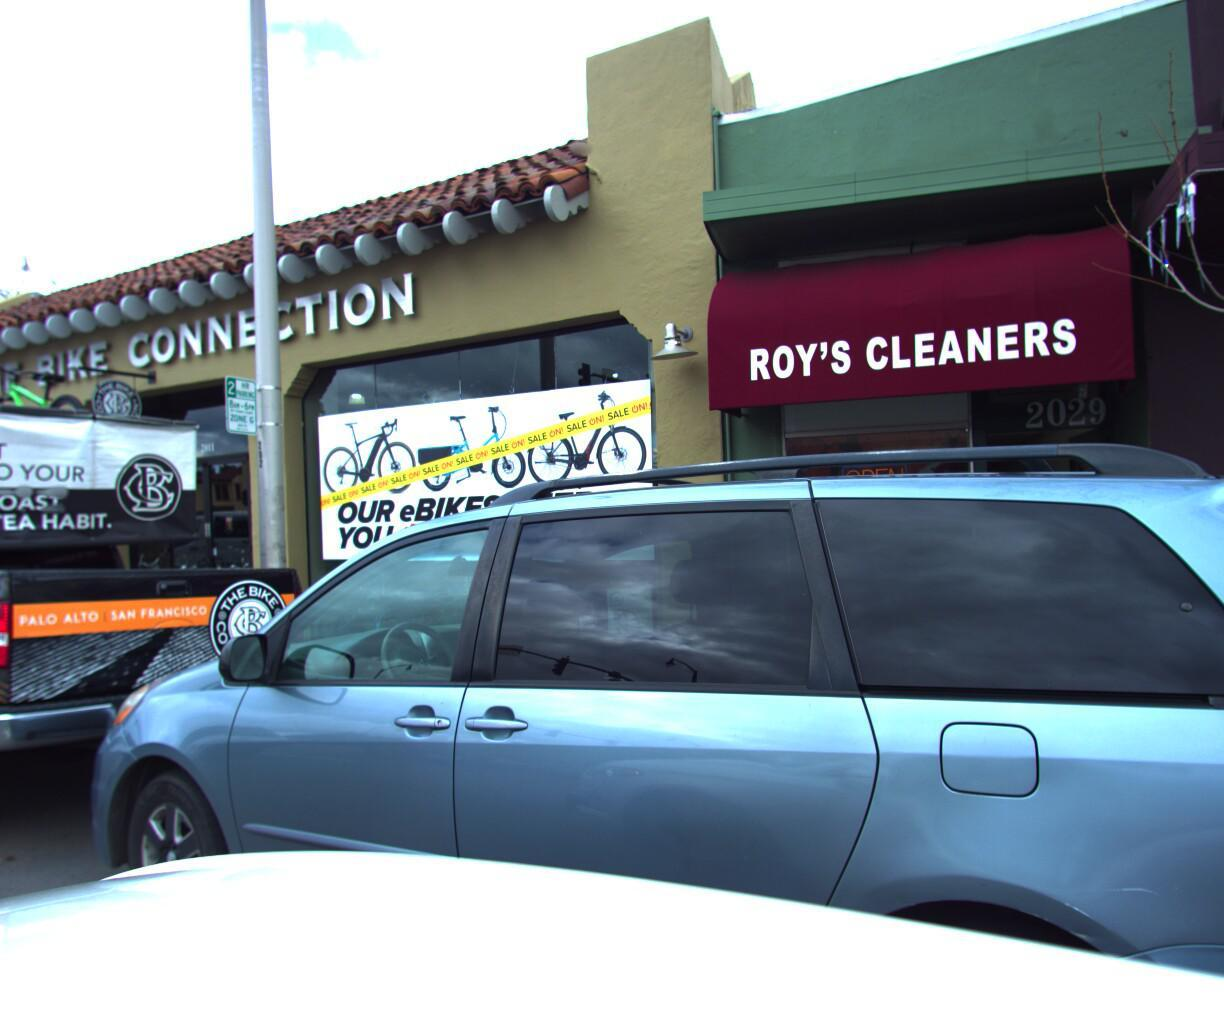car: (0, 317, 1224, 1024), (0, 206, 412, 918)
